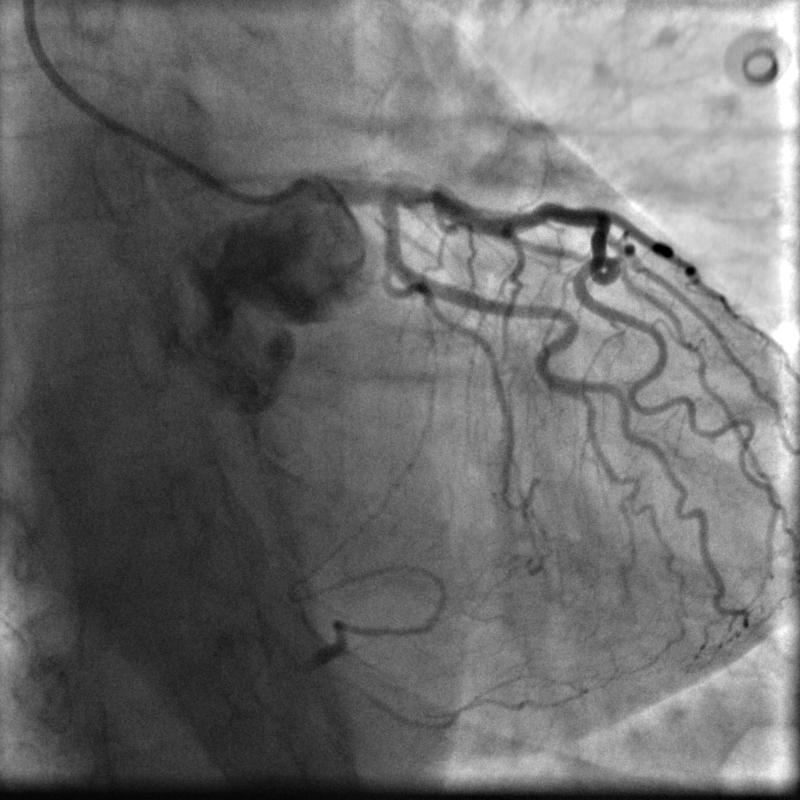Stenosis: (407, 177, 446, 208)
